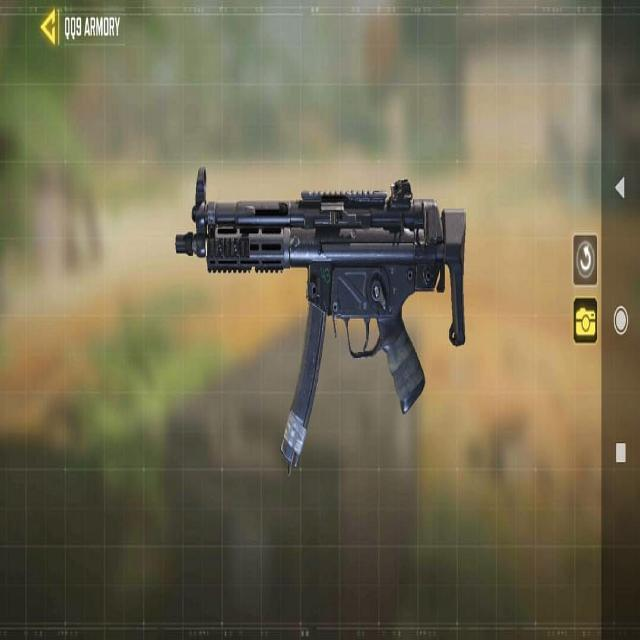smg: (172, 143, 480, 515)
